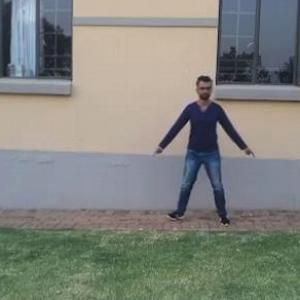land: (142, 72, 253, 239)
